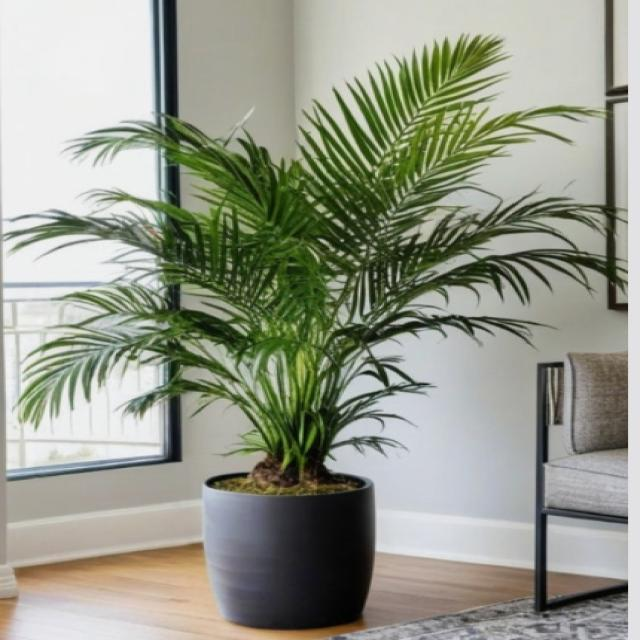Plant Pot: (189, 463, 418, 629)
